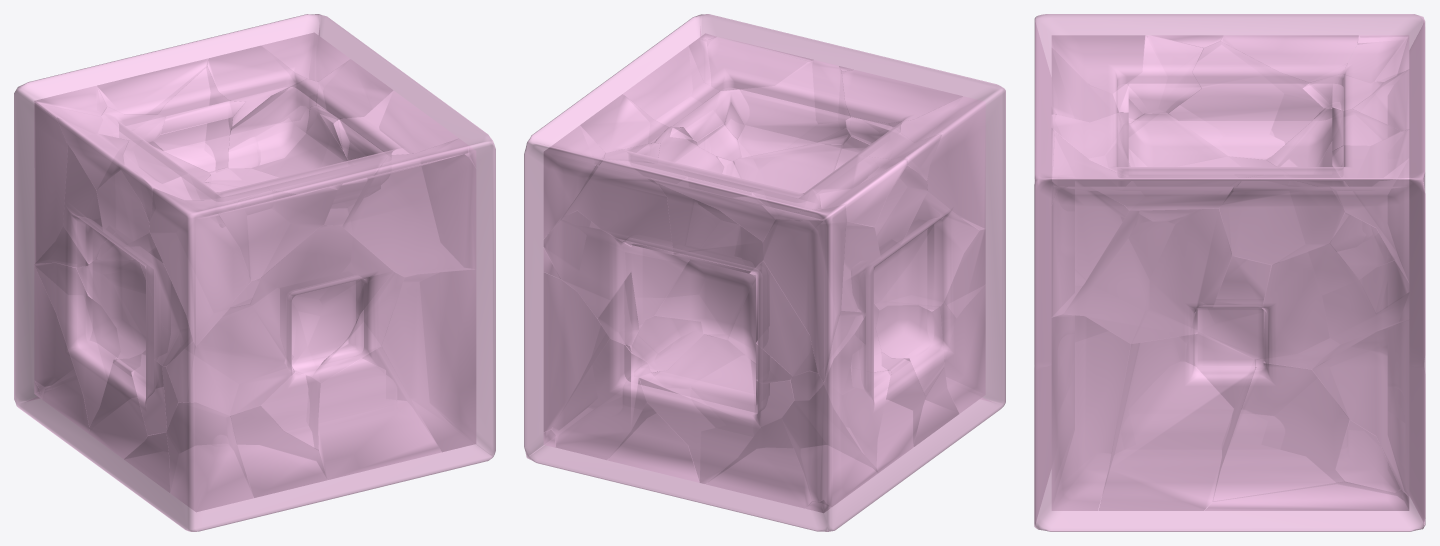
3 renders of one model, left to right at view 1: azimuth 30°, elevation 25°; view 2: azimuth 150°, elevation 25°; view 3: azimuth 270°, elevation 25°, orthographic. The views are drawn at different scales.
Visible parts, largest first — view 1: Na_cell.077; view 2: Na_cell.077; view 3: Na_cell.077.
Part boxes in pixels (bbox=[...]): Na_cell.077: bbox=[14, 14, 495, 531]; Na_cell.077: bbox=[524, 14, 1005, 531]; Na_cell.077: bbox=[1034, 14, 1425, 531].
Size of the model in its own units: 219 by 218 by 219.
